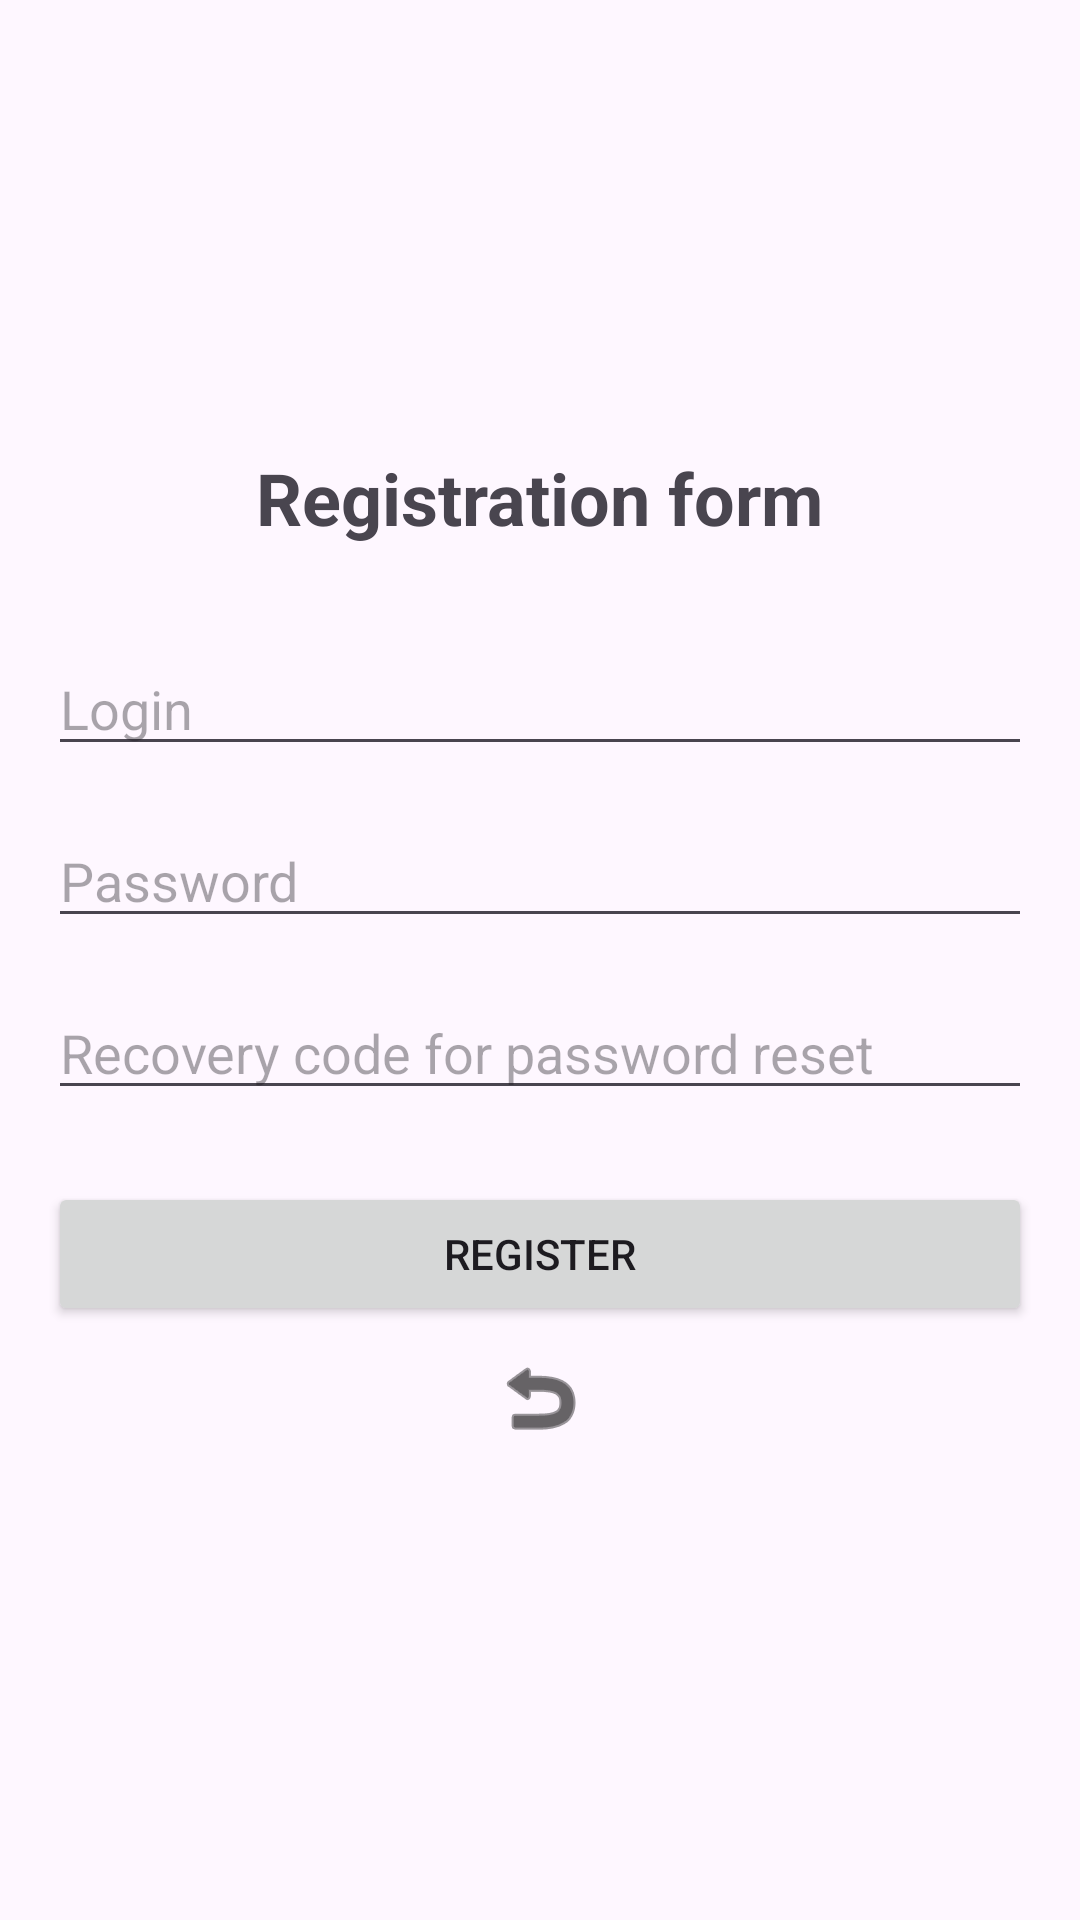

Where to tap for icons on this 1080×1920 app screen, as point (x, y):
revert: point (541, 1398)
